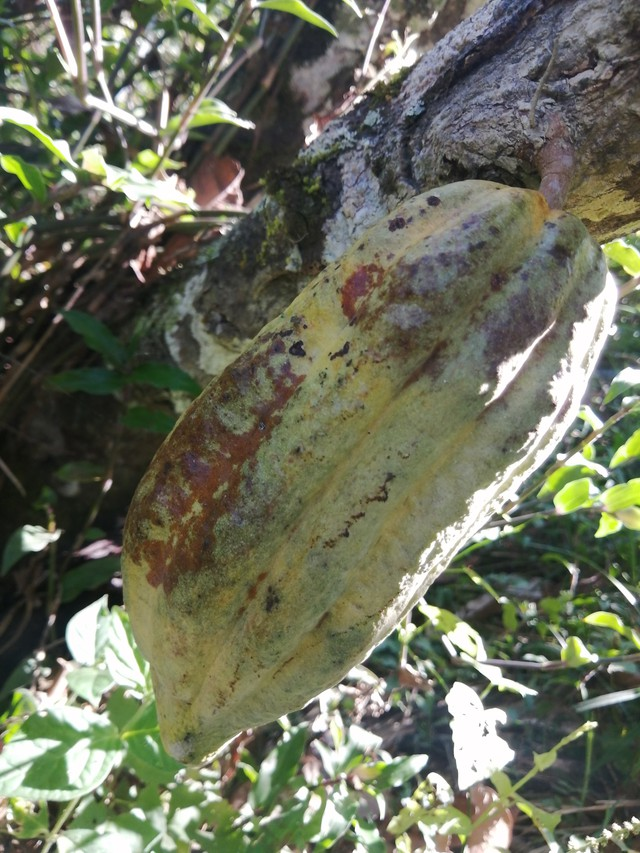moniliophthora perniciosa: (97, 167, 632, 771)
